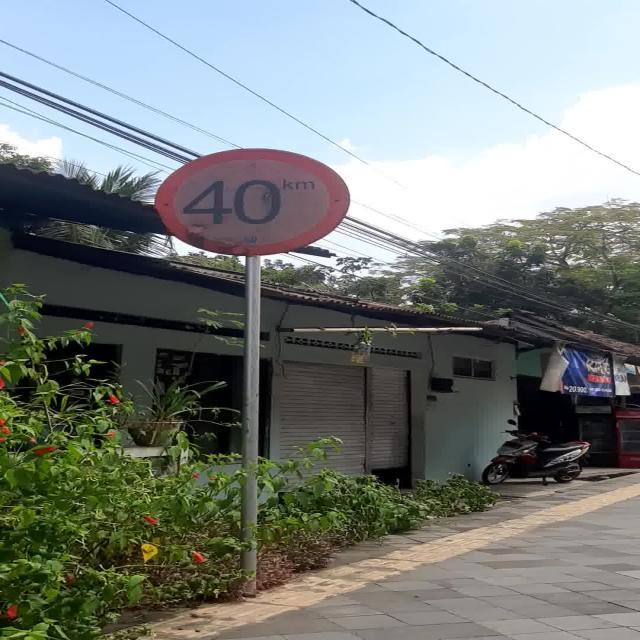Kecepatan Maks. 40 km: (154, 148, 351, 256)
